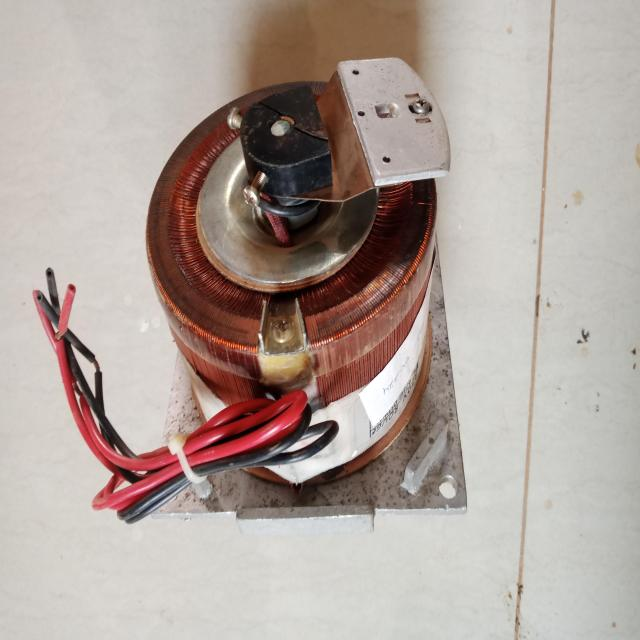AC Transformer: (138, 45, 469, 488)
